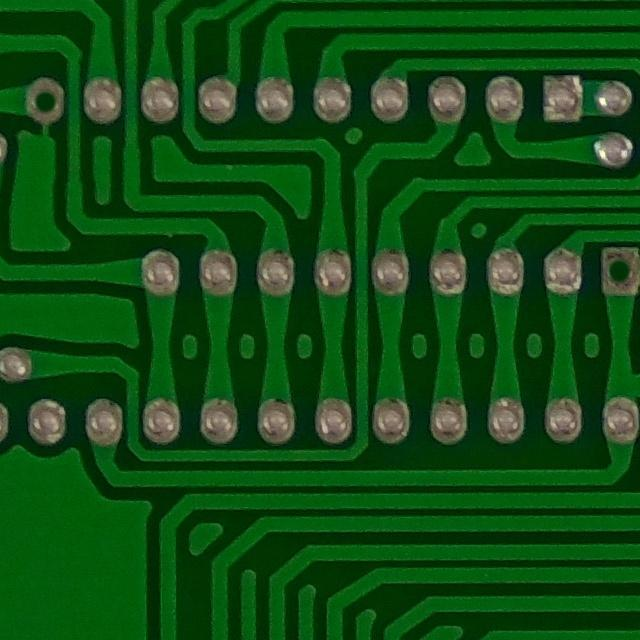missing_hole: (585, 240, 640, 301), (14, 69, 70, 123)
